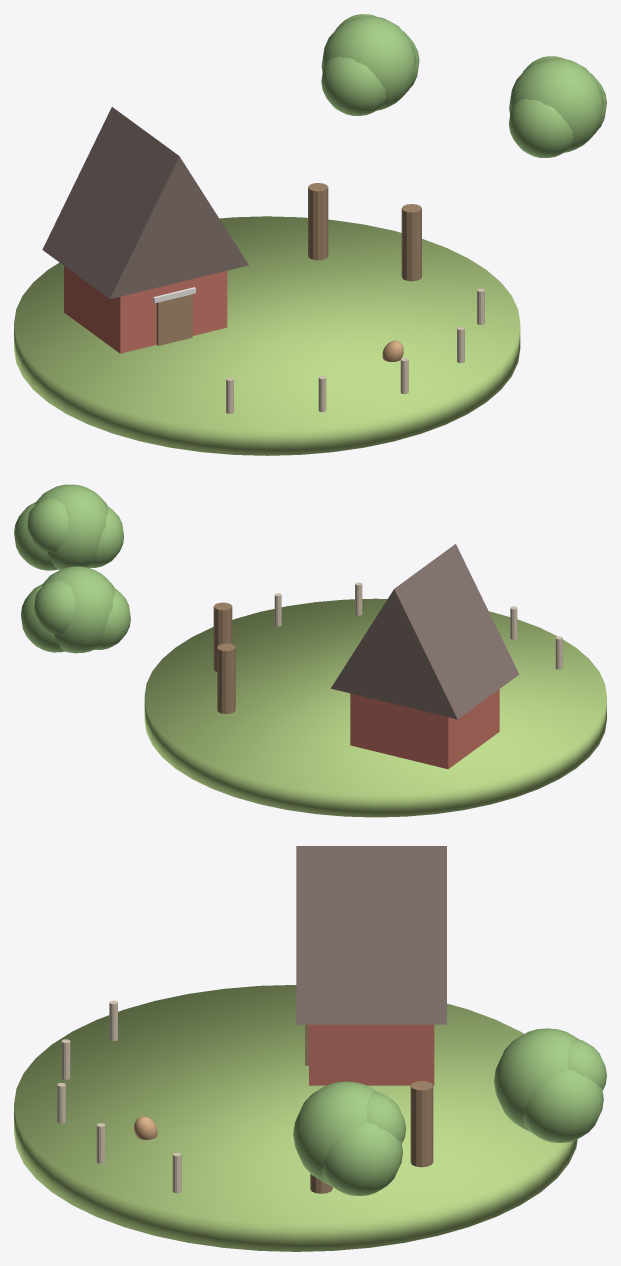
File: farm-scene.glb
The picture shows the model from 3 angles, top to bottom: view 1: azimuth 30°, elevation 25°; view 2: azimuth 150°, elevation 25°; view 3: azimuth 270°, elevation 25°; orthographic projection. The views are drawn at different scales.
Visible parts, largest first — view 1: Pasture_Ground, Barn_Roof, Barn_Coop, Foliage_1_1, Foliage_2_1, Foliage_1_2, Foliage_2_2, Barn_Doorway, Tree_Trunk_2, Tree_Trunk_1; view 2: Pasture_Ground, Barn_Roof, Barn_Coop, Foliage_1_1, Foliage_2_1, Foliage_1_4, Foliage_2_4, Tree_Trunk_1, Foliage_1_3, Foliage_2_3, Foliage_2_2, Foliage_1_2 (+1 smaller); view 3: Pasture_Ground, Barn_Roof, Barn_Coop, Foliage_1_1, Foliage_2_1, Foliage_1_3, Foliage_2_3, Tree_Trunk_1, Foliage_1_4, Foliage_2_4.
Part boxes in pixels (x1,y1,x2,y2): Pasture_Ground: (14,216,520,455); Barn_Roof: (42,107,248,298); Barn_Coop: (64,266,227,353); Foliage_1_1: (321,16,416,110); Foliage_2_1: (509,58,603,152); Foliage_1_2: (321,57,386,115); Foliage_2_2: (509,99,573,157); Barn_Doorway: (156,294,192,345); Tree_Trunk_2: (401,204,421,281); Tree_Trunk_1: (308,183,328,260); Pasture_Ground: (144,598,606,817); Barn_Roof: (331,544,519,719); Barn_Coop: (350,689,499,769); Foliage_1_1: (41,566,115,653); Foliage_2_1: (35,484,108,570); Foliage_1_4: (34,579,75,634); Foliage_2_4: (27,497,68,552); Tree_Trunk_1: (217,643,235,713); Foliage_1_3: (20,584,64,652); Foliage_2_3: (14,502,57,570); Foliage_2_2: (88,507,124,567); Foliage_1_2: (94,588,130,649); Pasture_Ground: (14,985,577,1251); Barn_Roof: (296,846,446,1024); Barn_Coop: (309,1024,434,1085); Foliage_1_1: (494,1028,578,1131); Foliage_2_1: (293,1081,377,1184); Foliage_1_3: (522,1069,603,1142); Foliage_2_3: (321,1122,402,1195); Tree_Trunk_1: (410,1081,433,1167); Foliage_1_4: (567,1039,606,1090); Foliage_2_4: (366,1092,405,1143).
Bounding box in the file's own units: 11.95 × 4.2 × 9.45.
